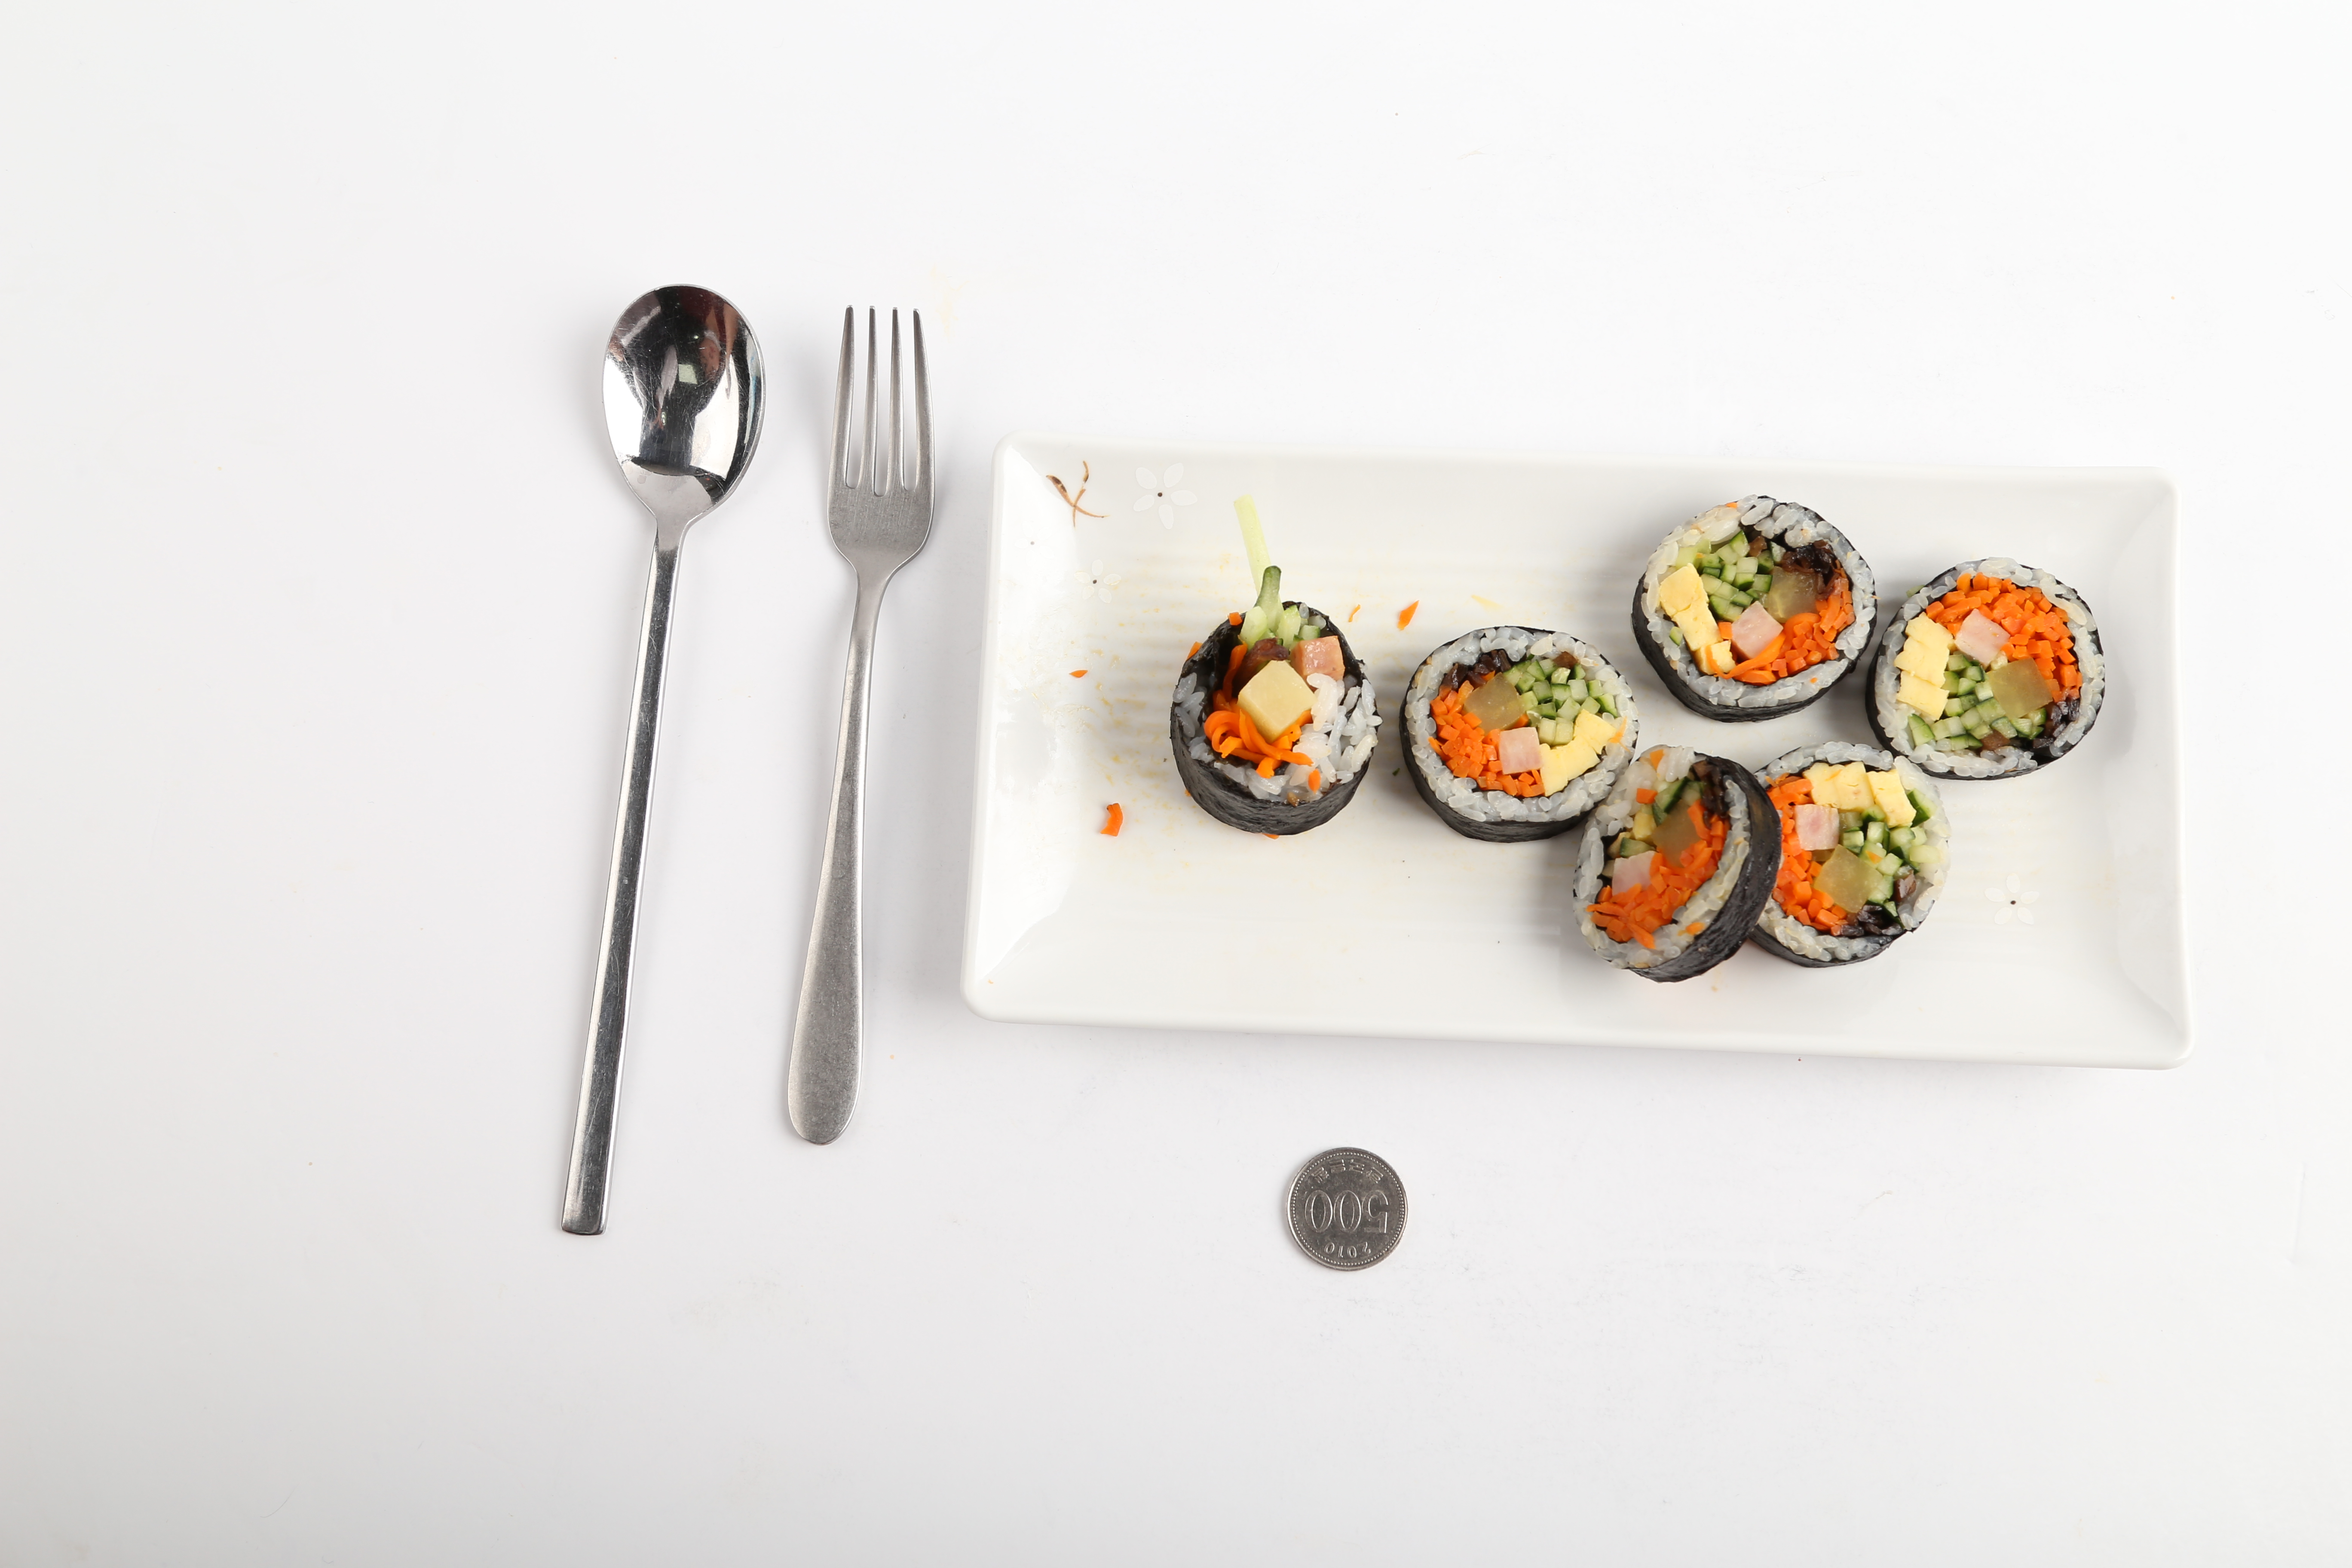dish: (961, 427, 2194, 1071)
ref_coin: (1279, 1136, 1412, 1274)
ref_fork: (819, 301, 940, 621)
ref_spoon: (595, 276, 768, 577)
김밥: (1172, 492, 2103, 983)
